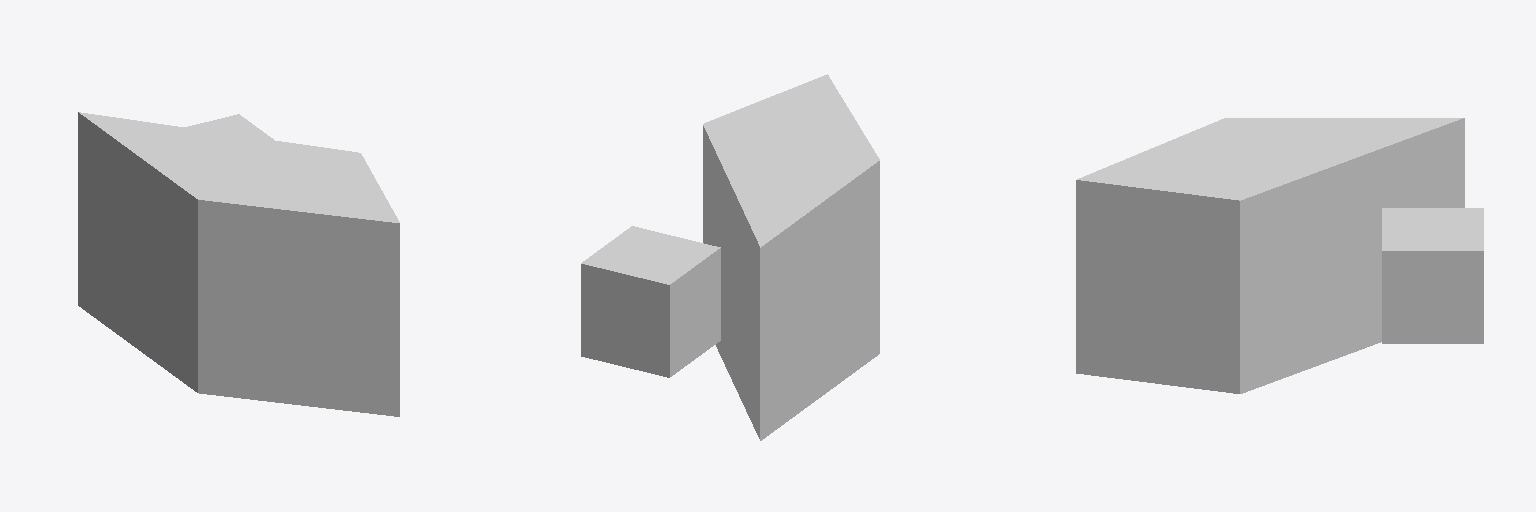
3 views of the same model, side by side, from view 1: azimuth 30°, elevation 25°; view 2: azimuth 150°, elevation 25°; view 3: azimuth 270°, elevation 25° (orthographic).
Parts seen in each view (by area): view 1: 立方体.001; view 2: 立方体.001; view 3: 立方体.001.
Part boxes in pixels (x1,y1,x2,y2): 立方体.001: (78, 112, 399, 416); 立方体.001: (581, 74, 879, 440); 立方体.001: (1076, 118, 1483, 393).
Size of the model in its own units: 0.92 by 1 by 1.91.
1 materials, 1 textured.